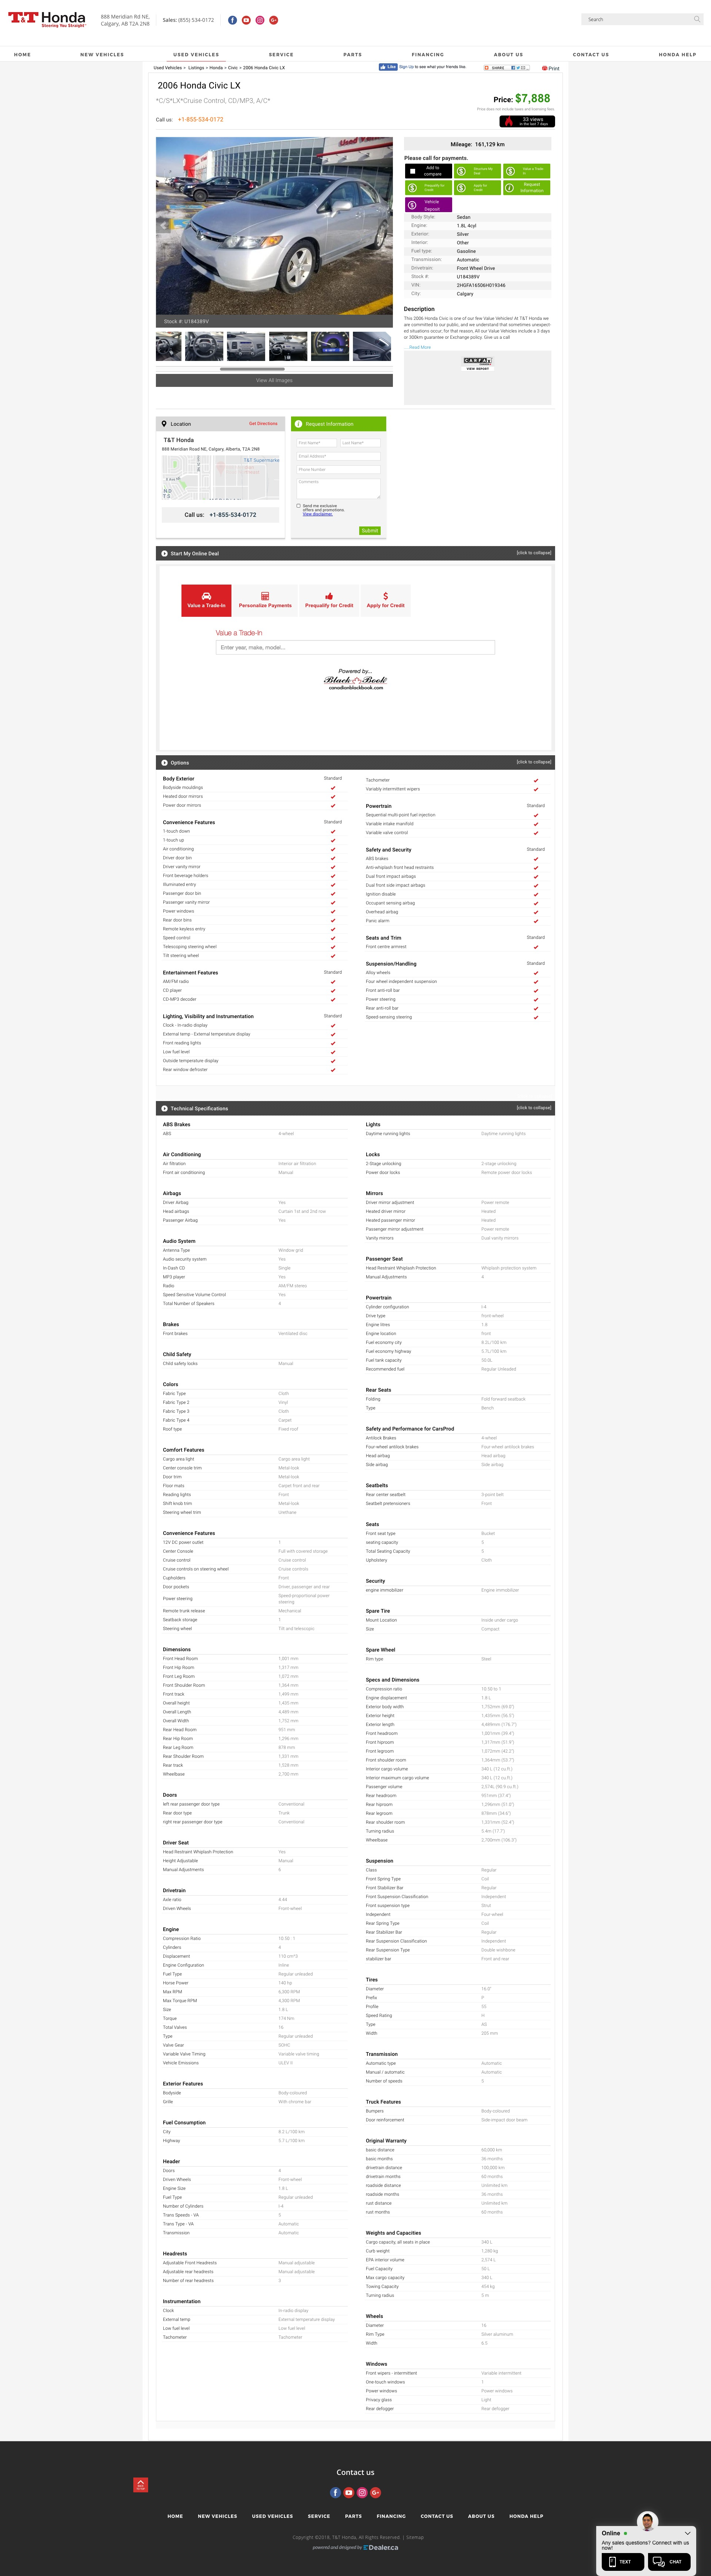car: (378, 217, 396, 235)
